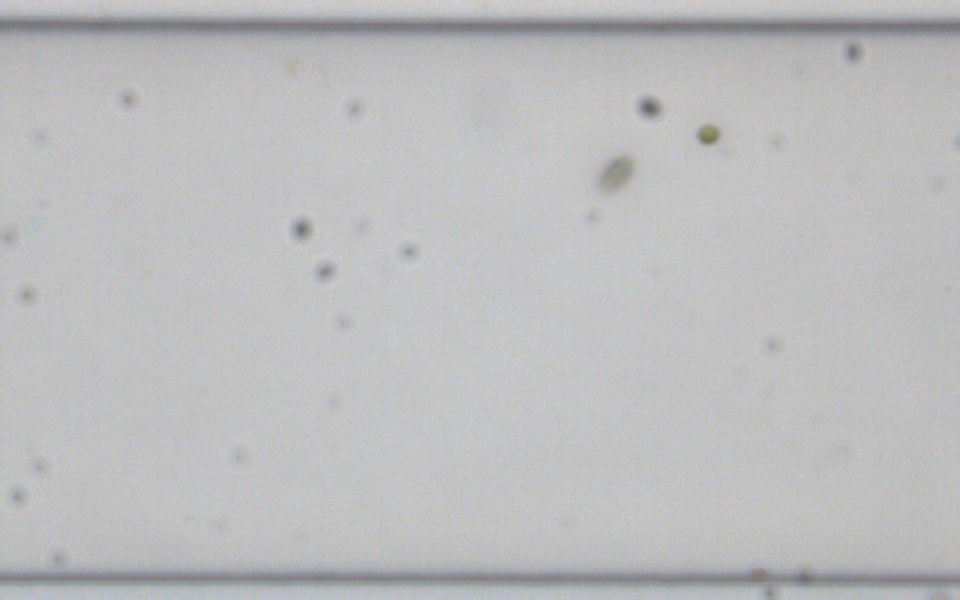Chlorella: (696, 122, 719, 144)
Dunaliella salina: (597, 150, 635, 197)
